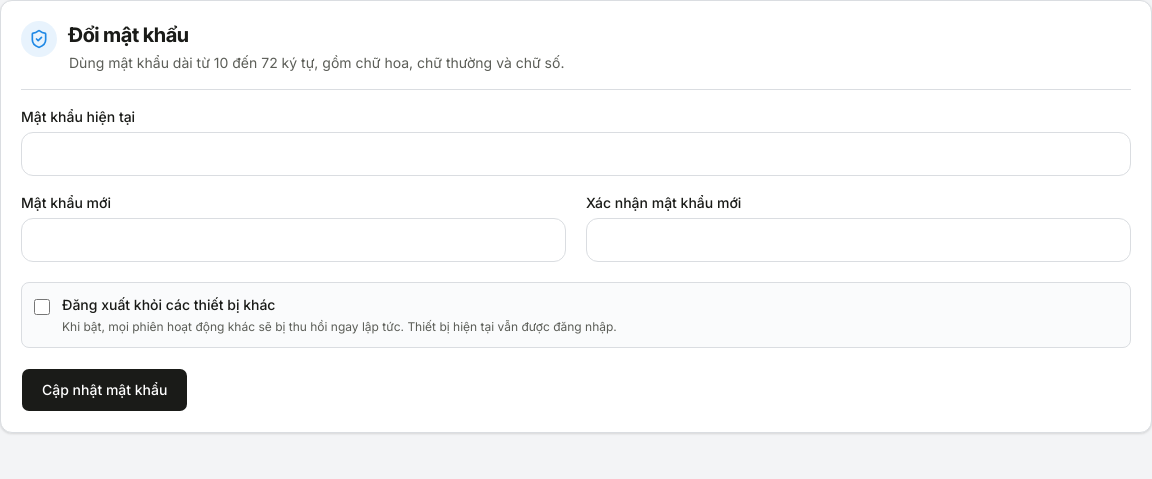
it: ChangePasswordForm › maps PASSWORD_UNCHANGED to the correct field
The image size is (1152, 479).
Type "CurrentPass1" into the password field labelled "Mật khẩu hiện tại". click: (576, 154)
box: top-left (21, 132), bottom-right (1131, 176)
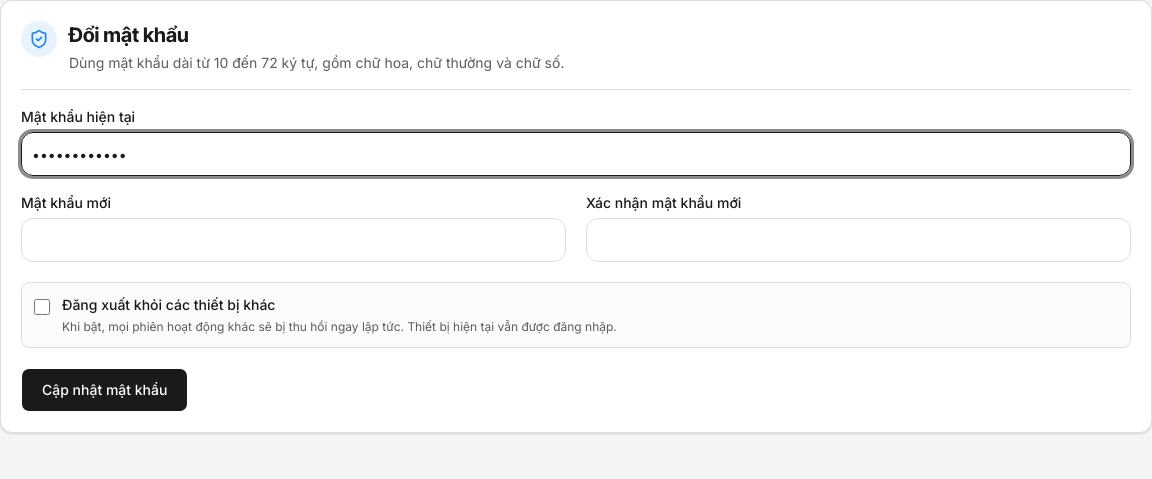
Type "NewPassword1" into the password field labelled "Mật khẩu mới". click: (294, 240)
box: top-left (21, 218), bottom-right (566, 262)
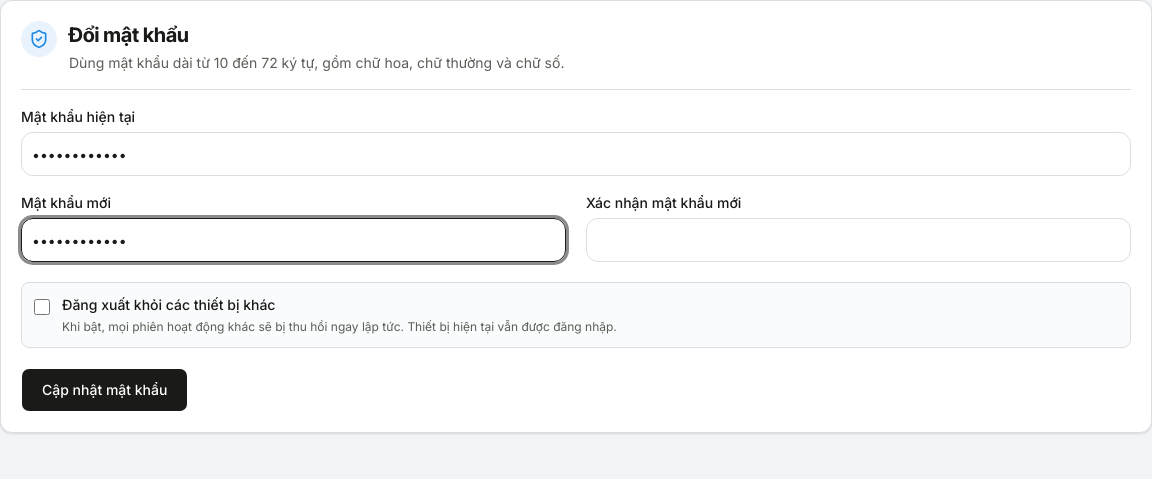
Type "NewPassword1" into the password field labelled "Xác nhận mật khẩu mới". click: (858, 240)
box: top-left (586, 218), bottom-right (1131, 262)
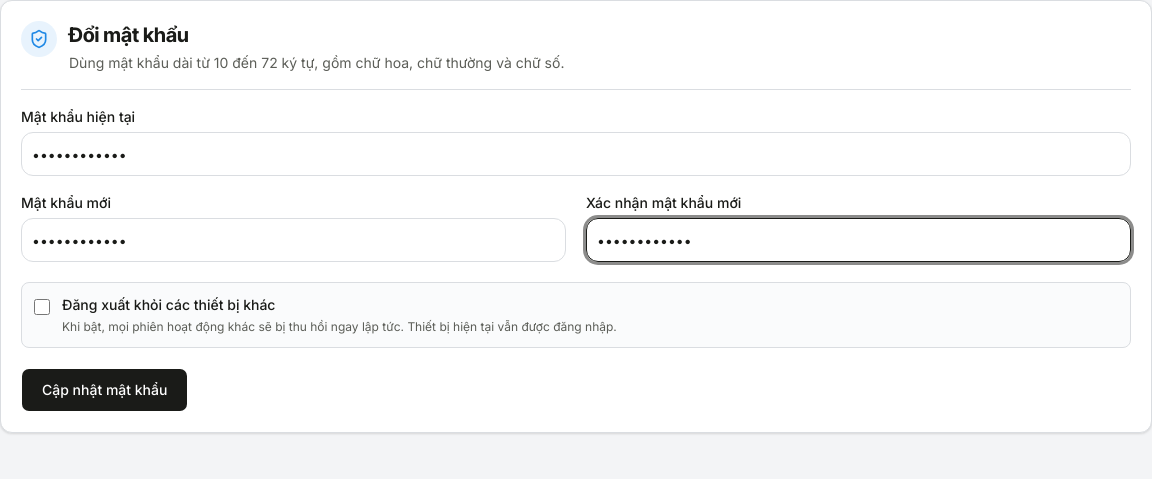
Click the button "Cập nhật mật khẩu". click: (105, 390)
box: top-left (21, 368), bottom-right (188, 412)
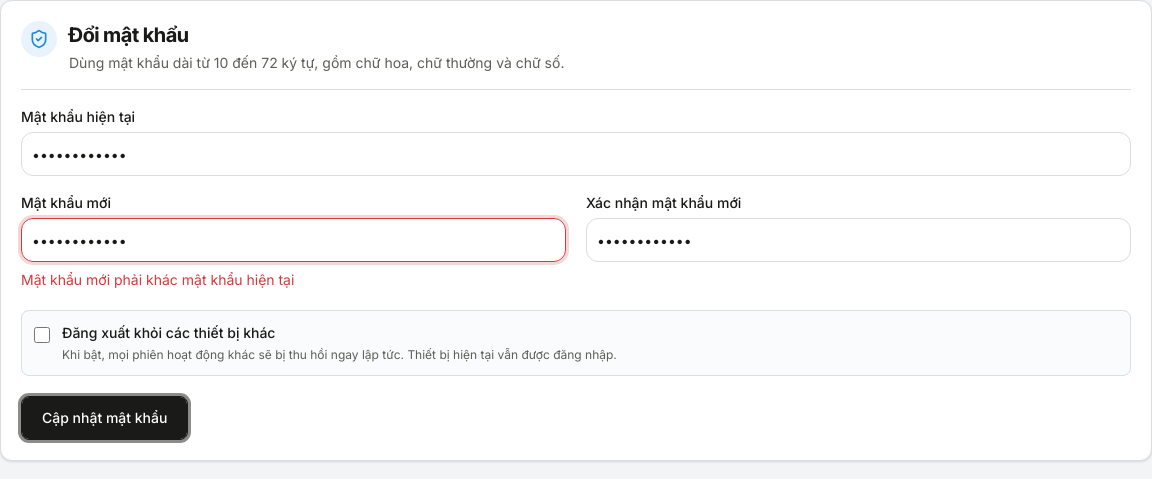
Expected: the text "Mật khẩu mới phải khác mật khẩu hiện tại" is shown, top-left (21, 271), bottom-right (294, 288)
